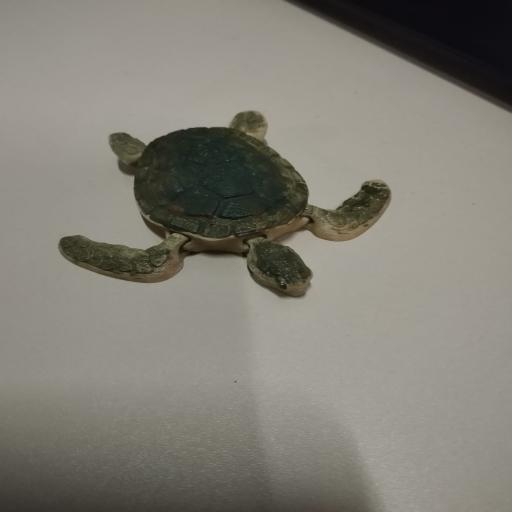Tugarin-modelo1: (59, 111, 390, 294)
